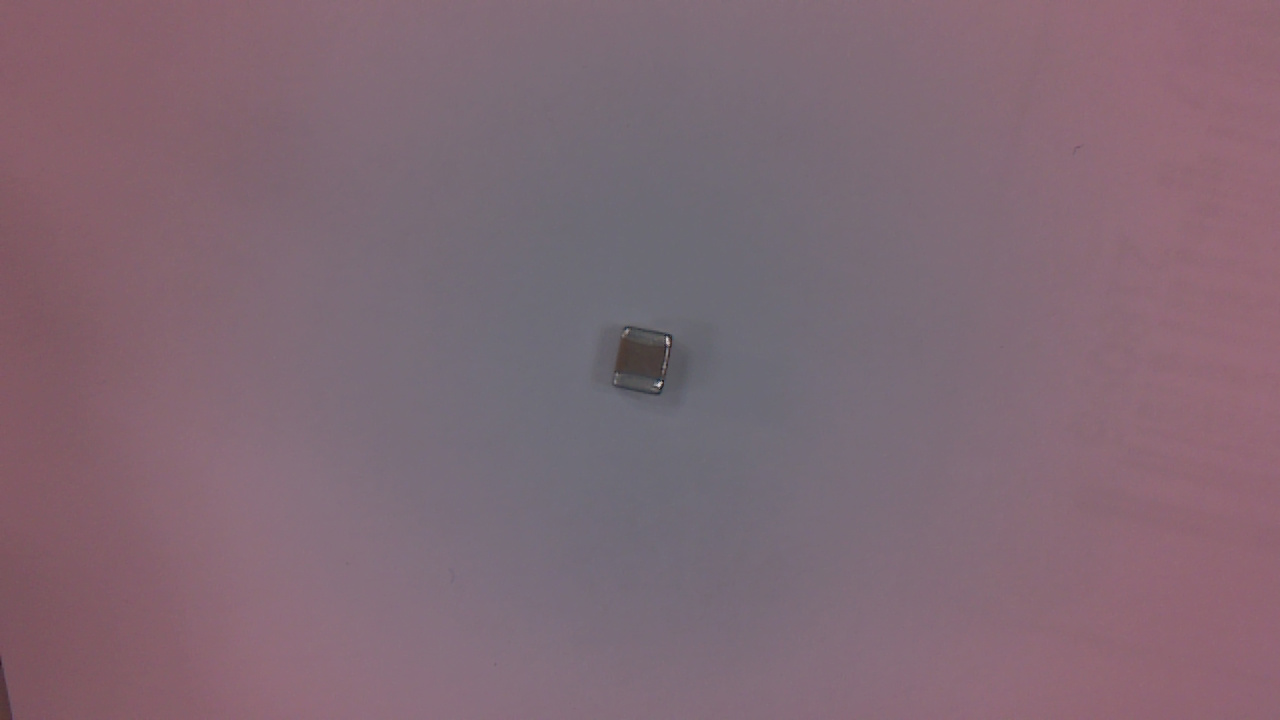Condensator: (617, 330, 679, 402)
